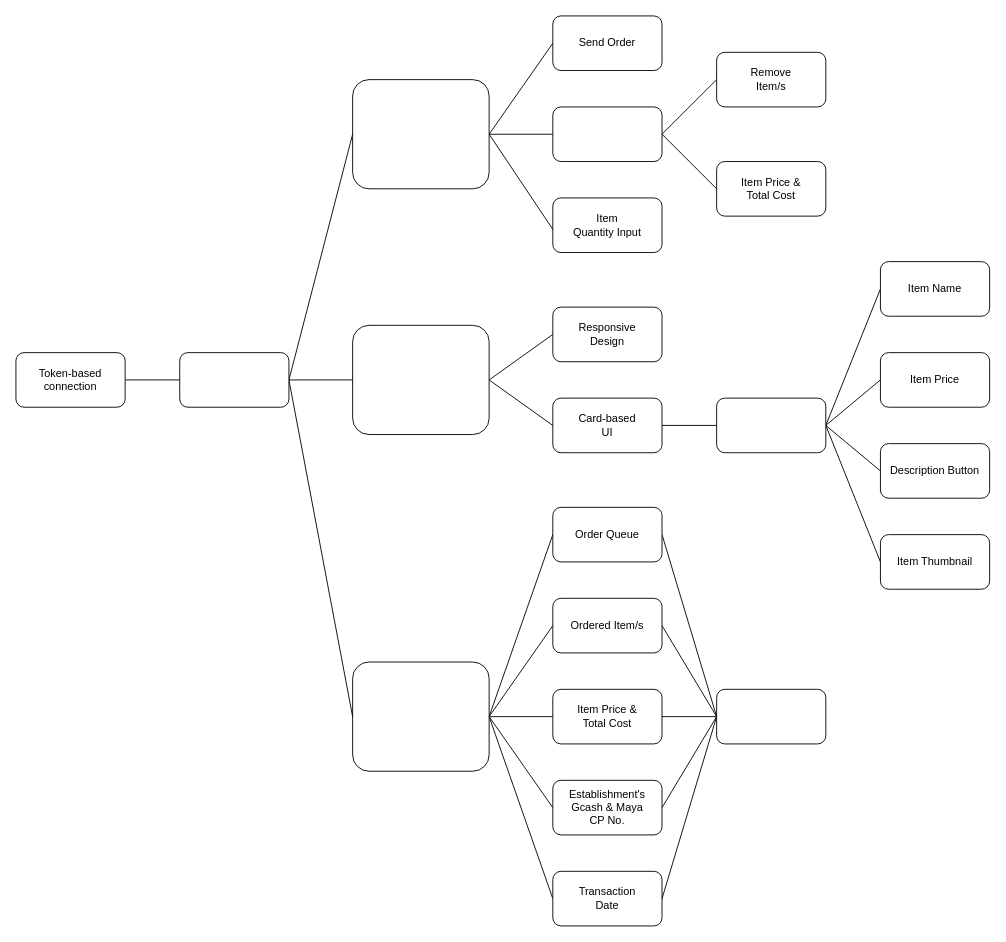
This 1006x942 diagram has some shape labels left out. Here are the shapes that lost their labels. From the top down, the centre of each, then its label:
the point at 420,134: Order Input
the point at 607,134: Order List
the point at 234,379: Backend API Connection
the point at 420,379: Item/s Display
the point at 771,425: Card
the point at 420,716: QR Code/ E-receipt Generation
the point at 771,716: Scannable QR Code
